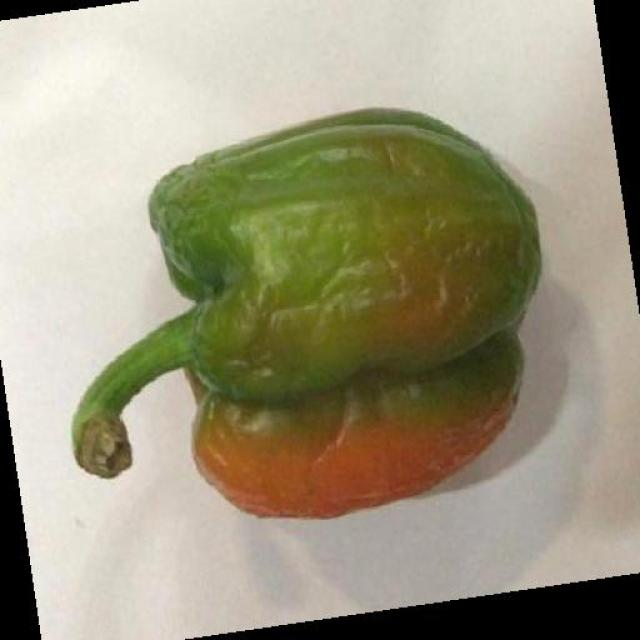Stale_Capsicum: (121, 98, 539, 525)
